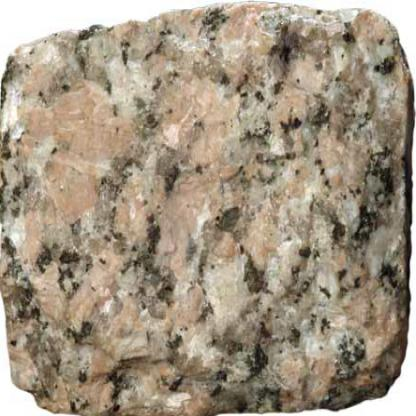Igneous_Granite: (0, 9, 415, 415)
